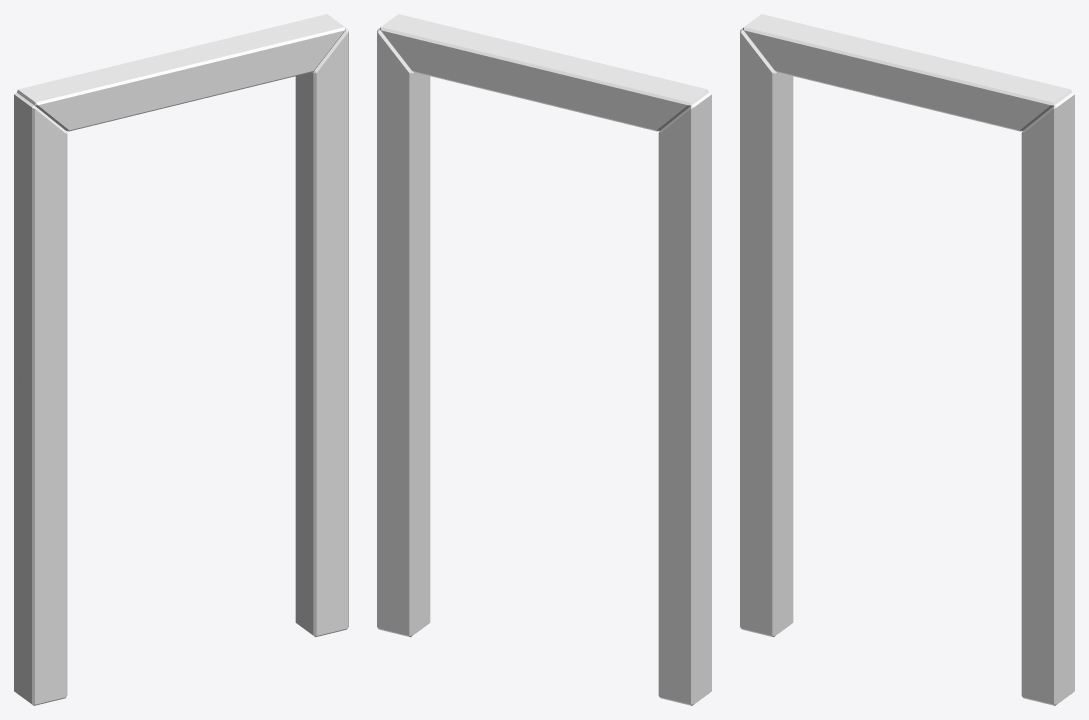
Rendered from Door_frame.fbx.
The picture shows the model from 3 angles, left to right: view 1: azimuth 30°, elevation 25°; view 2: azimuth 150°, elevation 25°; view 3: azimuth 330°, elevation 25°; orthographic projection.
Visible parts, largest first — view 1: Door_frame; view 2: Door_frame; view 3: Door_frame.
Part boxes in pixels (x1,y1,x2,y2): Door_frame: [14, 14, 348, 705]; Door_frame: [377, 14, 711, 705]; Door_frame: [740, 14, 1074, 705].
Bounding box in the file's own units: 1.1 × 2 × 0.1214.
